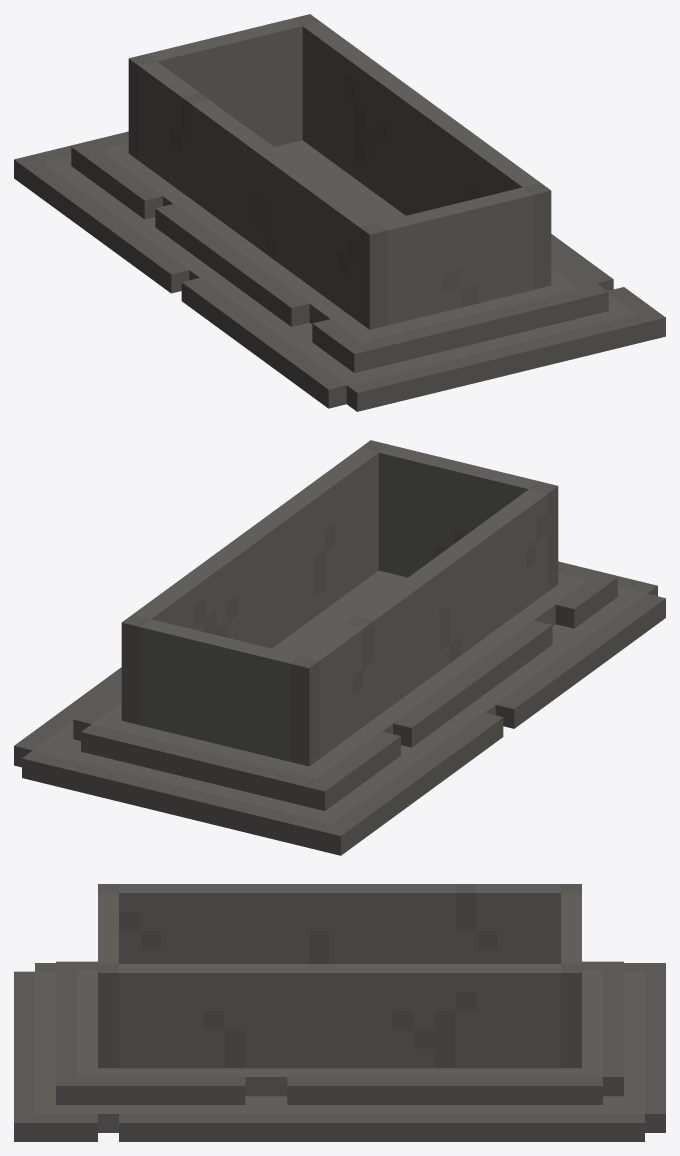
Rendered from church-67-crypt.obj.
The picture shows the model from 3 angles, top to bottom: view 1: azimuth 30°, elevation 25°; view 2: azimuth 150°, elevation 25°; view 3: azimuth 270°, elevation 25°; orthographic projection. The views are drawn at different scales.
Visible parts, largest first — view 1: crypt; view 2: crypt; view 3: crypt.
Boxes of the visible parts, x1,y1,x2,y2 form: crypt: [14, 14, 665, 411]; crypt: [14, 440, 665, 855]; crypt: [14, 884, 665, 1141].
Bounding box in the file's own units: 1.8 × 0.7 × 3.1.
Materials: 1 (1 with a texture image).
